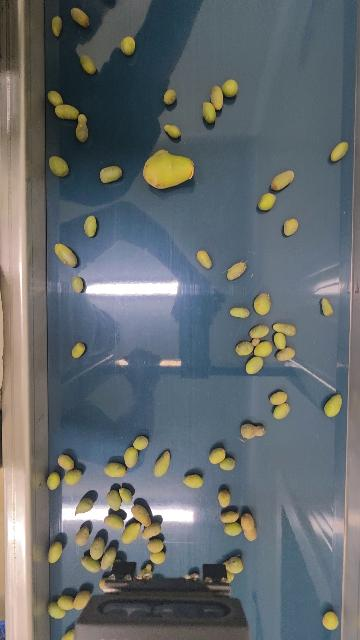Baby Potato: (141, 147, 196, 190), (54, 242, 78, 269), (270, 169, 296, 192), (47, 154, 70, 178), (240, 512, 258, 542), (240, 421, 267, 440), (226, 260, 250, 281), (153, 450, 171, 478), (99, 165, 124, 184), (324, 392, 342, 418), (131, 503, 151, 526), (121, 521, 141, 544), (253, 292, 272, 316), (235, 339, 260, 357), (54, 104, 80, 121), (70, 6, 90, 28), (330, 140, 349, 163), (75, 112, 89, 143), (100, 547, 117, 572), (72, 589, 91, 611), (209, 84, 225, 110), (200, 100, 217, 124), (258, 191, 277, 212), (223, 555, 244, 574), (104, 461, 127, 478), (47, 540, 63, 564), (273, 321, 297, 337), (245, 355, 264, 375), (119, 35, 137, 56), (221, 77, 239, 98), (253, 339, 274, 357), (79, 53, 96, 75), (322, 609, 339, 631), (81, 555, 101, 573), (90, 536, 106, 558), (105, 489, 121, 511), (248, 324, 270, 340), (124, 446, 139, 469), (272, 402, 291, 420), (282, 217, 299, 237), (104, 513, 124, 530), (183, 473, 204, 489), (197, 248, 213, 269), (75, 525, 90, 547), (269, 389, 288, 406), (48, 601, 65, 620), (142, 522, 161, 539), (50, 15, 64, 38), (83, 215, 97, 238), (275, 346, 296, 361), (229, 306, 251, 320), (76, 497, 93, 515), (209, 446, 226, 464), (64, 468, 82, 485), (163, 123, 182, 139), (223, 520, 242, 536), (57, 453, 74, 470), (47, 89, 64, 106), (47, 471, 61, 491), (320, 297, 334, 317), (220, 510, 240, 524), (57, 594, 74, 610), (118, 486, 133, 504), (71, 341, 86, 359), (272, 331, 287, 349), (147, 538, 165, 553), (217, 489, 231, 508), (162, 88, 177, 105), (71, 275, 85, 293), (133, 435, 149, 450), (220, 456, 236, 471), (251, 338, 263, 356), (150, 551, 165, 564), (62, 627, 76, 640), (224, 571, 234, 583)
